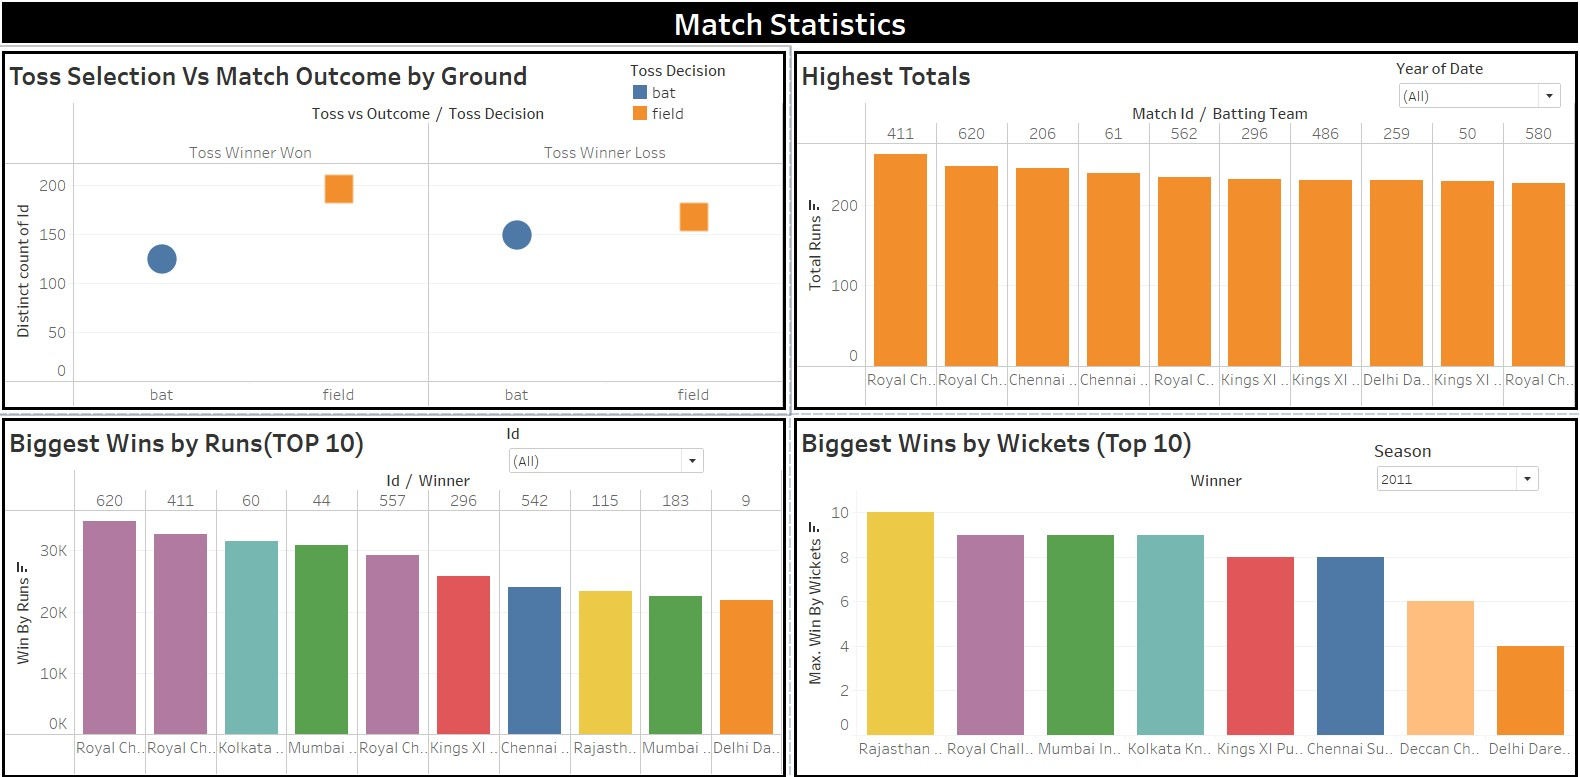

The dashboard page shown, as its layout file describes it:
{"tool":"tableau","page":{"name":"Match Statistics","canvas":[1600,800],"ordinal":0},"visuals":[{"type":"title","box":[8,8,1584,49]},{"type":"worksheet","title":"Toss Selection Vs Match Outcome by Ground","mark":"Shape","rows":["id"],"cols":["Calculation_1126181401776889856","toss_decision"],"box":[8,57,792,367.5]},{"type":"worksheet","title":"Highest Totals","mark":"Automatic","rows":["total_runs"],"cols":["match_id","batting_team"],"box":[800,57,792,367.5]},{"type":"filter","title":"Highest Totals","param":"[federated.0wkk9it1j331jq12wii9s0wn6xrt].[yr:date:ok]","box":[1406,68,168,61]},{"type":"legend","title":"Toss Selection Vs Match Outcome by Ground","param":"[federated.0wkk9it1j331jq12wii9s0wn6xrt].[none:toss_decision:nk]","box":[640,70,140,64]},{"type":"worksheet","title":"Biggest Wins by Runs (Top 10)","mark":"Automatic","rows":["win_by_runs"],"cols":["id","winner"],"box":[8,424.5,791.9,367.5]},{"type":"worksheet","title":"Biggest Wins by Wickets (Top 10)","mark":"Automatic","rows":["win_by_wickets"],"cols":["winner"],"box":[799.9,424.5,792.1,367.5]},{"type":"filter","title":"Biggest Wins by Runs (Top 10)","param":"[federated.0wkk9it1j331jq12wii9s0wn6xrt].[none:id:ok]","box":[516,433,201,65]},{"type":"filter","title":"Biggest Wins by Wickets (Top 10)","param":"[federated.0wkk9it1j331jq12wii9s0wn6xrt].[yr:date:ok]","box":[1384,448,168,61]}]}

Visuals, with their boxes in screenshot pixels (x1, y1, x2, y2), scaled from the page's 1600x800 canvas onto the 1580x777 screenshot:
title: Rect(8, 8, 1572, 55)
"Toss Selection Vs Match Outcome by Ground" worksheet (Shape marks): Rect(8, 55, 790, 412)
"Highest Totals" worksheet: Rect(790, 55, 1572, 412)
"Highest Totals" filter: Rect(1388, 66, 1554, 125)
"Toss Selection Vs Match Outcome by Ground" legend: Rect(632, 68, 770, 130)
"Biggest Wins by Runs (Top 10)" worksheet: Rect(8, 412, 790, 769)
"Biggest Wins by Wickets (Top 10)" worksheet: Rect(790, 412, 1572, 769)
"Biggest Wins by Runs (Top 10)" filter: Rect(510, 421, 708, 484)
"Biggest Wins by Wickets (Top 10)" filter: Rect(1367, 435, 1533, 494)
